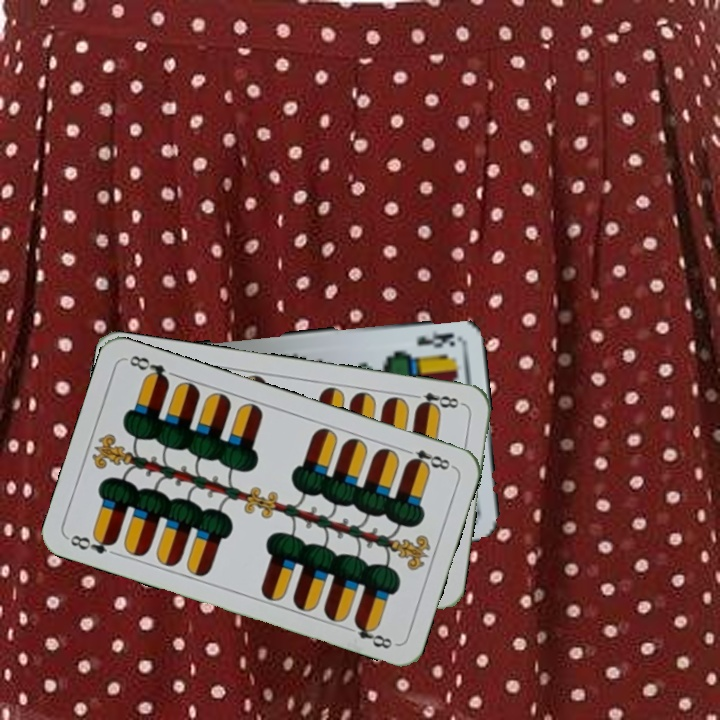E8: (398, 444, 456, 473), (64, 530, 120, 557), (407, 388, 466, 413)
EK: (413, 328, 457, 350)
